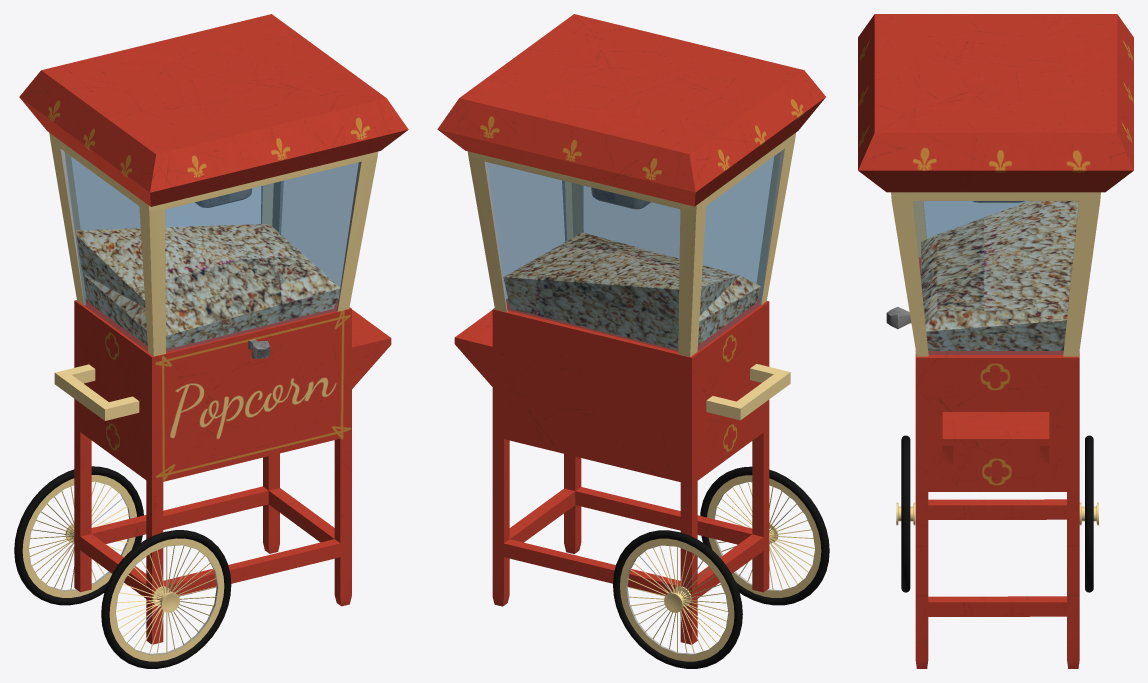
3 views of the same model, side by side, from view 1: azimuth 30°, elevation 25°; view 2: azimuth 150°, elevation 25°; view 3: azimuth 270°, elevation 25° (orthographic). The views are drawn at different scales.
Visible parts, largest first — view 1: polySurface6, polySurface4; view 2: polySurface6, polySurface4; view 3: polySurface6, polySurface4.
Part boxes in pixels (x1,y1,x2,y2): polySurface6: (14,14,408,668); polySurface4: (65,152,358,352); polySurface6: (437,14,829,668); polySurface4: (487,152,780,351); polySurface6: (858,14,1133,668); polySurface4: (913,201,1078,354).
Size of the model in its own units: 0.3806 by 0.6271 by 0.2808.
Materials: 2 (1 with a texture image).
